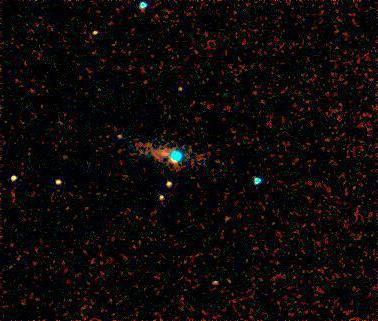star: (208, 203, 238, 233)
